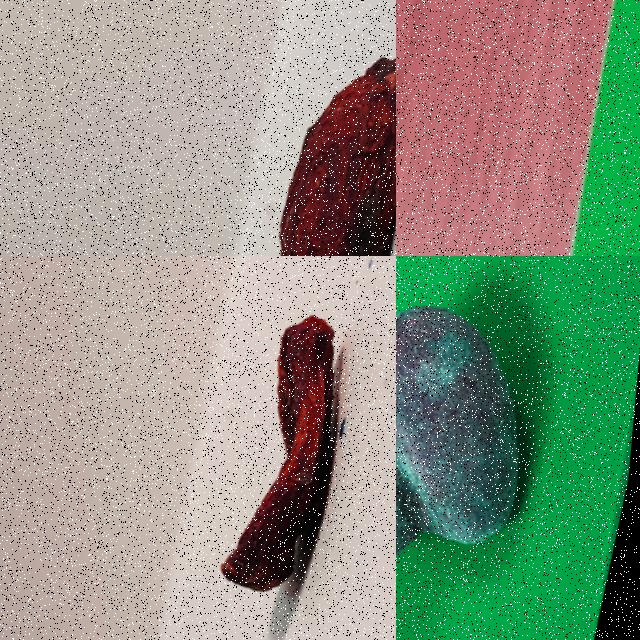Agglomerated_cocoabeans: (396, 256, 627, 639)
Fine_cocoabeans: (590, 0, 639, 255)
Flat_cocoabeans: (175, 259, 395, 639), (199, 0, 395, 255)
